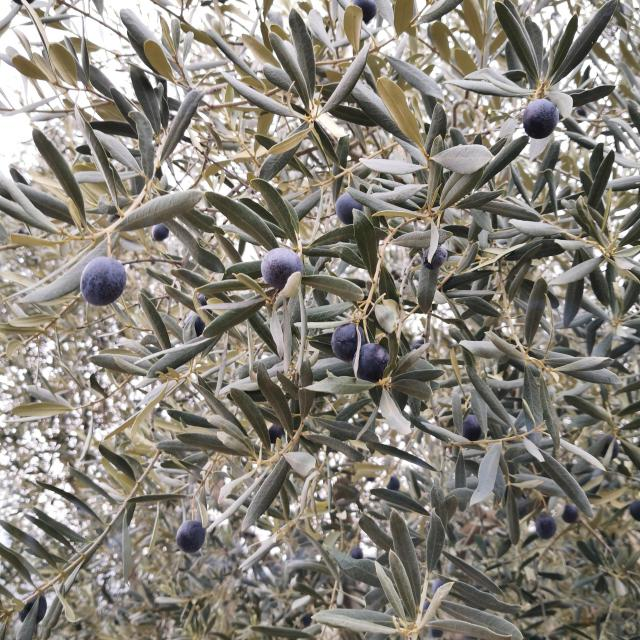Healthy: (205, 191, 279, 251), (331, 322, 389, 383), (251, 178, 299, 245), (80, 256, 127, 306), (261, 248, 304, 298), (523, 98, 560, 139), (524, 512, 557, 545), (176, 520, 206, 554), (462, 413, 487, 447)
